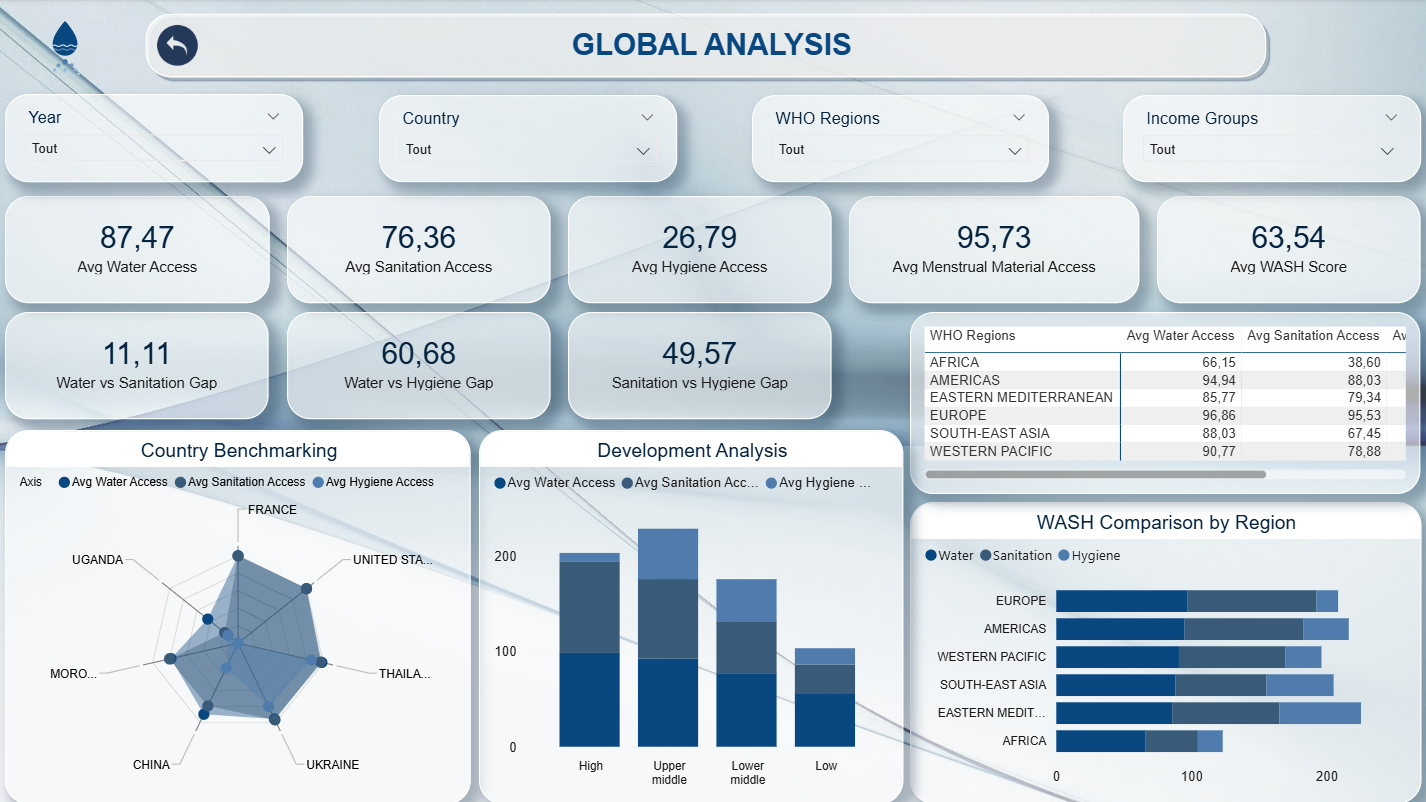

Layout of this report page (visuals, bound fields, positions):
{"tool":"powerbi","page":{"name":"Global/comparative Analysis","canvas":[1280,720],"ordinal":4},"visuals":[{"type":"cardVisual","fields":{"Data":["WATER.Avg Water Access"]},"box":[6.5,176.6,237,95.7],"z":0},{"type":"cardVisual","fields":{"Data":["MENSTRUAL_HEALTH.Avg Menstrual Material Access"]},"box":[762.5,176.6,260.3,95.7],"z":1000},{"type":"cardVisual","fields":{"Data":["SANITATION.Avg Sanitation Access"]},"box":[259.1,176.6,236.1,95.7],"z":2000},{"type":"cardVisual","fields":{"Data":["YEAR.Avg WASH Score"]},"box":[1038.3,176.6,236.1,95.7],"z":3000},{"type":"cardVisual","fields":{"Data":["HYGIENE.Avg Hygiene Access"]},"box":[510.8,176.6,236.1,95.7],"z":4000},{"type":"cardVisual","fields":{"Data":["YEAR.Water vs Sanitation Gap"]},"box":[6.5,280.7,236.1,95.7],"z":5000},{"type":"cardVisual","fields":{"Data":["YEAR.Water vs Hygiene Gap"]},"box":[258.4,280.7,236.1,95.7],"z":6000},{"type":"cardVisual","fields":{"Data":["YEAR.Sanitation vs Hygiene Gap"]},"box":[510.3,280.7,236.1,95.7],"z":7000},{"type":"barChart","title":"WASH Comparison by Region","fields":{"Category":["WHO_REGIONS.who_regions"],"Y":["WATER.Avg Water Access","SANITATION.Avg Sanitation Access","HYGIENE.Avg Hygiene Access"]},"box":[816.7,450.4,457.6,269.6],"z":8000},{"type":"RadarChart1446119667547","title":"Country Benchmarking","fields":{"Category":["COUNTRY.country_name"],"Y":["WATER.Avg Water Access","SANITATION.Avg Sanitation Access","HYGIENE.Avg Hygiene Access"]},"box":[6.5,385.8,417.4,334.6],"z":9000},{"type":"slicer","fields":{"Values":["YEAR.value"]},"box":[6.4,84.8,266.8,79.4],"z":10000},{"type":"slicer","fields":{"Values":["COUNTRY.country_name"]},"box":[340.9,85.8,266.8,78.3],"z":11000},{"type":"slicer","fields":{"Values":["WHO_REGIONS.who_regions"]},"box":[675.5,85.8,265.7,78.3],"z":12000},{"type":"slicer","fields":{"Values":["INCOME_GROUPS.Income_Groups"]},"box":[1007.9,85.8,266.8,78.3],"z":13000},{"type":"shape","box":[126,7.4,1015.3,68.8],"z":14000},{"type":"image","box":[18,4.2,83.6,76.2],"z":15000},{"type":"textbox","box":[497.3,21.4,284.4,46.5],"z":16000},{"type":"pivotTable","title":"Global Trend Over Time","fields":{"Values":["WATER.Avg Water Access","SANITATION.Avg Sanitation Access","HYGIENE.Avg Hygiene Access"],"Rows":["WHO_REGIONS.who_regions"]},"box":[817.1,280.7,457.3,162.7],"z":17000},{"type":"columnChart","title":"Development Analysis","fields":{"Y":["WATER.Avg Water Access","SANITATION.Avg Sanitation Access","HYGIENE.Avg Hygiene Access"],"Category":["INCOME_GROUPS.Income_Groups"]},"box":[430.4,385.8,380.2,334.6],"z":18000},{"type":"image","box":[139.4,21.4,42.8,40],"z":19000}]}

Visuals, with their boxes in screenshot pixels (x1, y1, x2, y2), scaled from the page's 1280x720 canvas onto the 1426x802 screenshot:
cardVisual - WATER.Avg Water Access: bbox=[7, 197, 271, 303]
cardVisual - MENSTRUAL_HEALTH.Avg Menstrual Material Access: bbox=[849, 197, 1139, 303]
cardVisual - SANITATION.Avg Sanitation Access: bbox=[289, 197, 552, 303]
cardVisual - YEAR.Avg WASH Score: bbox=[1157, 197, 1420, 303]
cardVisual - HYGIENE.Avg Hygiene Access: bbox=[569, 197, 832, 303]
cardVisual - YEAR.Water vs Sanitation Gap: bbox=[7, 313, 270, 419]
cardVisual - YEAR.Water vs Hygiene Gap: bbox=[288, 313, 551, 419]
cardVisual - YEAR.Sanitation vs Hygiene Gap: bbox=[569, 313, 832, 419]
"WASH Comparison by Region" barChart: bbox=[910, 502, 1420, 801]
"Country Benchmarking" RadarChart1446119667547: bbox=[7, 430, 472, 801]
slicer - YEAR.value: bbox=[7, 94, 304, 183]
slicer - COUNTRY.country_name: bbox=[380, 96, 677, 183]
slicer - WHO_REGIONS.who_regions: bbox=[753, 96, 1049, 183]
slicer - INCOME_GROUPS.Income_Groups: bbox=[1123, 96, 1420, 183]
shape: bbox=[140, 8, 1271, 85]
image: bbox=[20, 5, 113, 90]
textbox: bbox=[554, 24, 871, 76]
"Global Trend Over Time" pivotTable: bbox=[910, 313, 1420, 494]
"Development Analysis" columnChart: bbox=[479, 430, 903, 801]
image: bbox=[155, 24, 203, 68]
